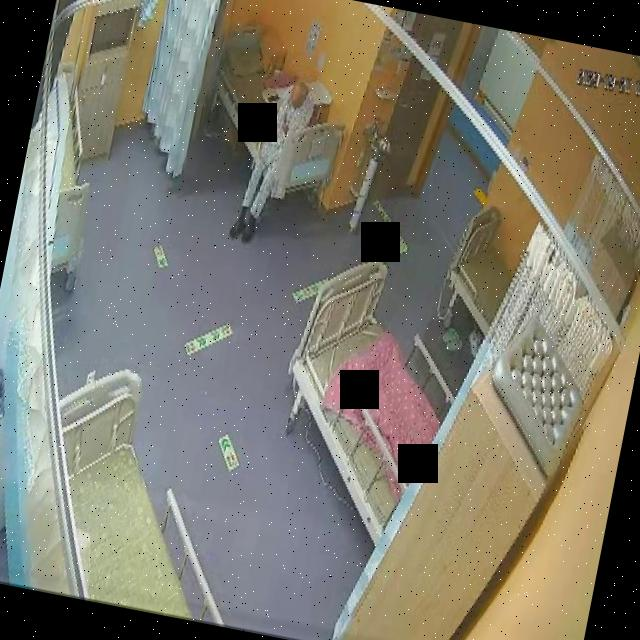bed: (22, 361, 266, 627), (262, 250, 469, 550), (188, 18, 362, 210), (439, 200, 526, 342)
patient: (229, 66, 320, 250)
sit: (229, 64, 319, 250)
